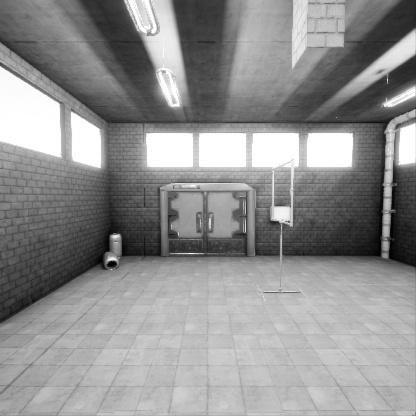gate: (272, 192, 294, 259)
